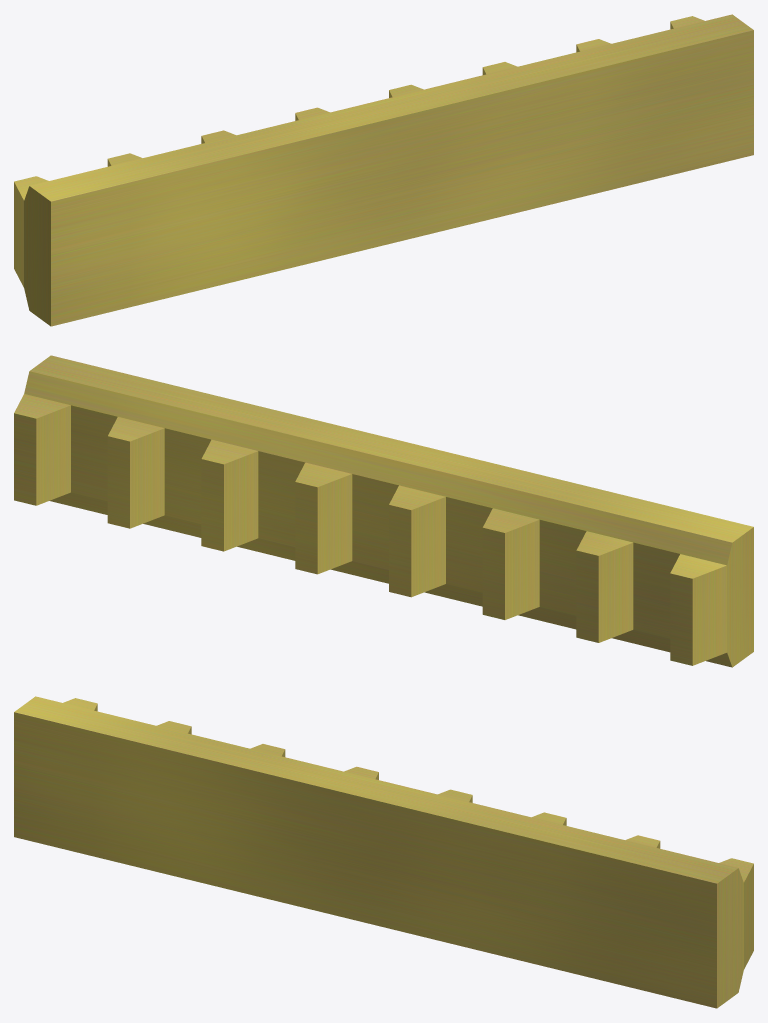
Rendered from StraightRaisedSideCog008.fbx.
3 views of the same model, one above another, from view 1: azimuth 30°, elevation 25°; view 2: azimuth 150°, elevation 25°; view 3: azimuth 330°, elevation 25° (orthographic).
Parts seen in each view (by area): view 1: StraightRaisedSideCog008; view 2: StraightRaisedSideCog008; view 3: StraightRaisedSideCog008.
Part boxes in pixels (x1,y1,x2,y2): StraightRaisedSideCog008: (14,14,753,326); StraightRaisedSideCog008: (14,355,753,667); StraightRaisedSideCog008: (14,696,753,1008).
Size of the model in its own units: 177 by 30.03 by 21.44.
